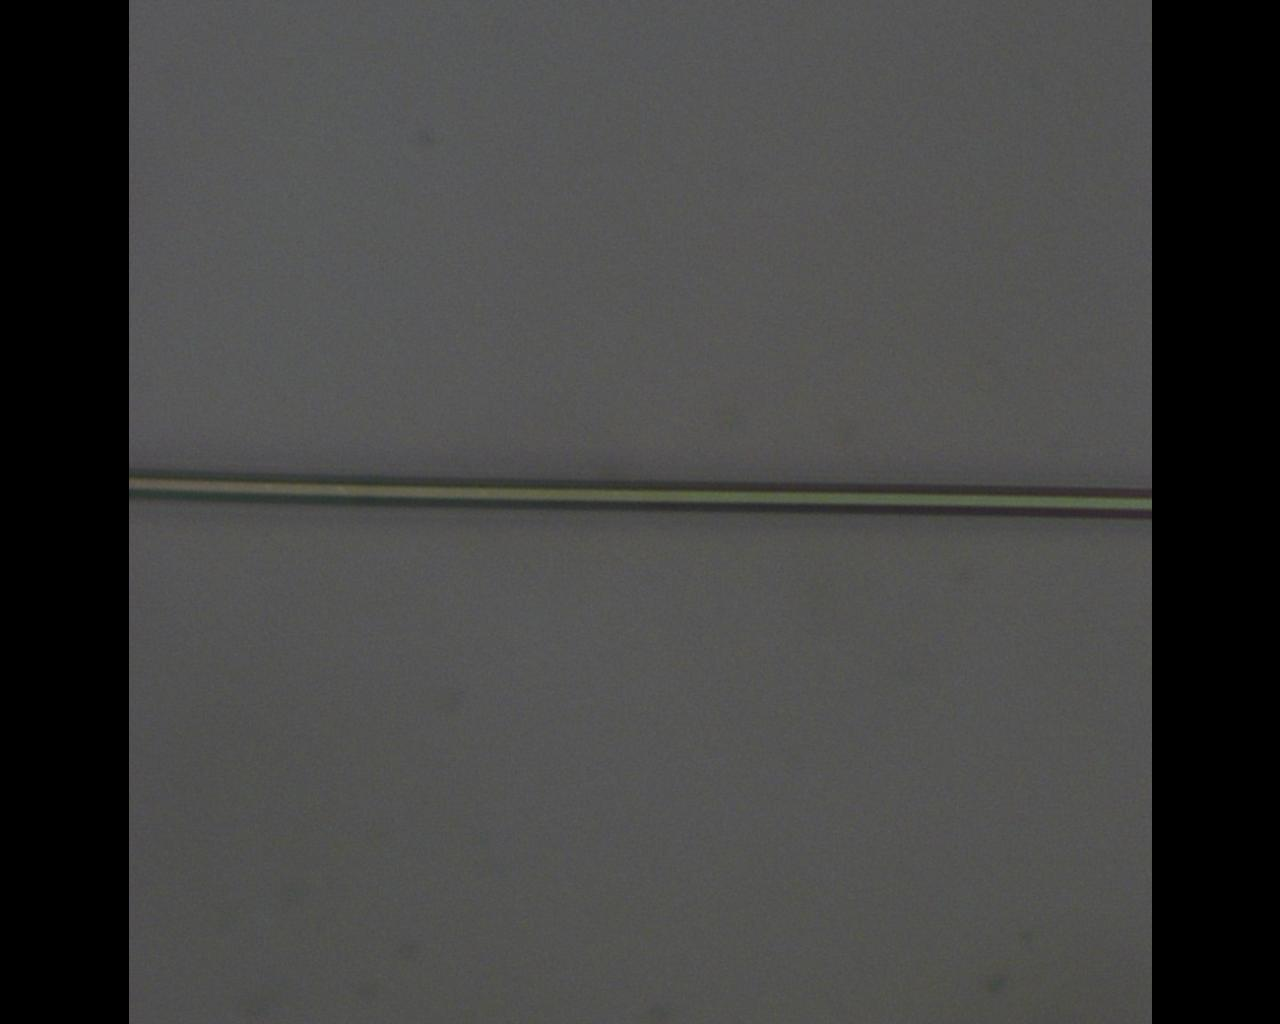fiber: (563, 0, 1133, 614)
